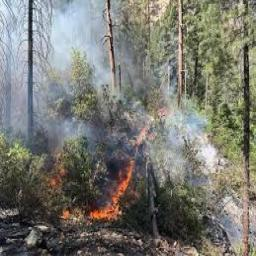Low smoke: (0, 0, 247, 248)
Small fire: (39, 97, 148, 237)
